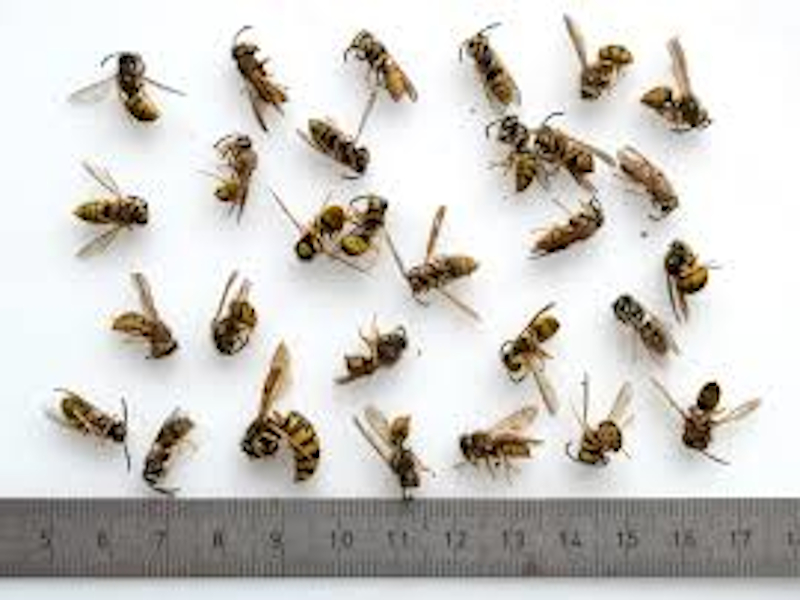chax: (239, 338, 331, 497), (379, 206, 493, 328), (60, 164, 185, 263), (558, 378, 662, 491), (343, 399, 442, 513), (70, 34, 181, 134), (322, 23, 436, 114), (669, 366, 763, 476), (95, 274, 200, 371), (27, 374, 134, 465), (215, 13, 299, 128), (629, 29, 718, 135), (651, 215, 744, 313), (453, 18, 537, 121), (555, 10, 640, 110), (491, 294, 575, 395), (131, 404, 210, 509), (516, 194, 622, 271), (600, 289, 698, 367), (266, 180, 346, 273), (456, 397, 541, 482), (330, 308, 423, 384), (201, 267, 271, 366), (338, 177, 409, 270), (206, 126, 272, 221), (284, 112, 381, 176), (612, 147, 700, 213), (480, 103, 543, 195), (544, 114, 612, 196)
